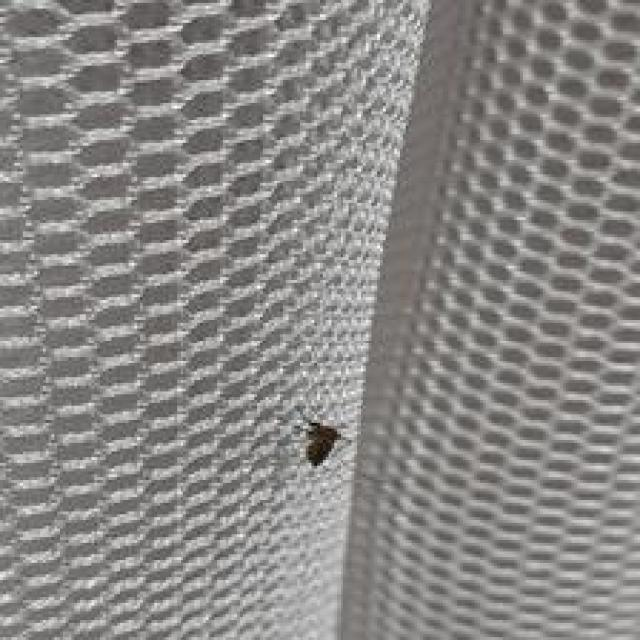Culex: (294, 412, 343, 468)
